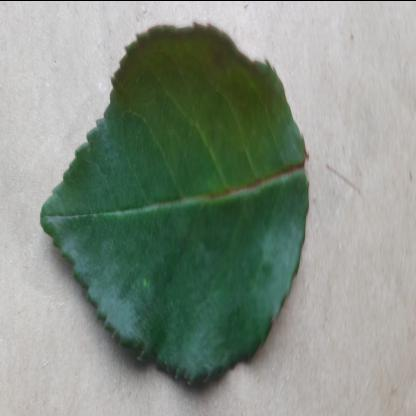normal: (40, 18, 310, 393)
